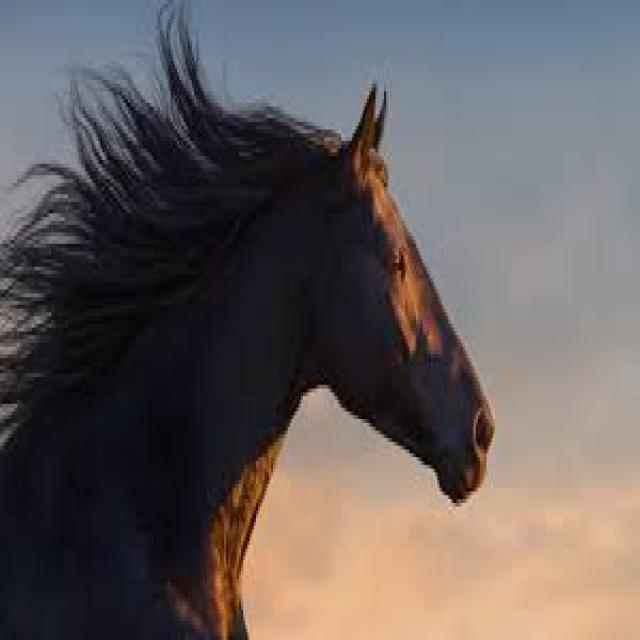Horse: (0, 54, 495, 636)
